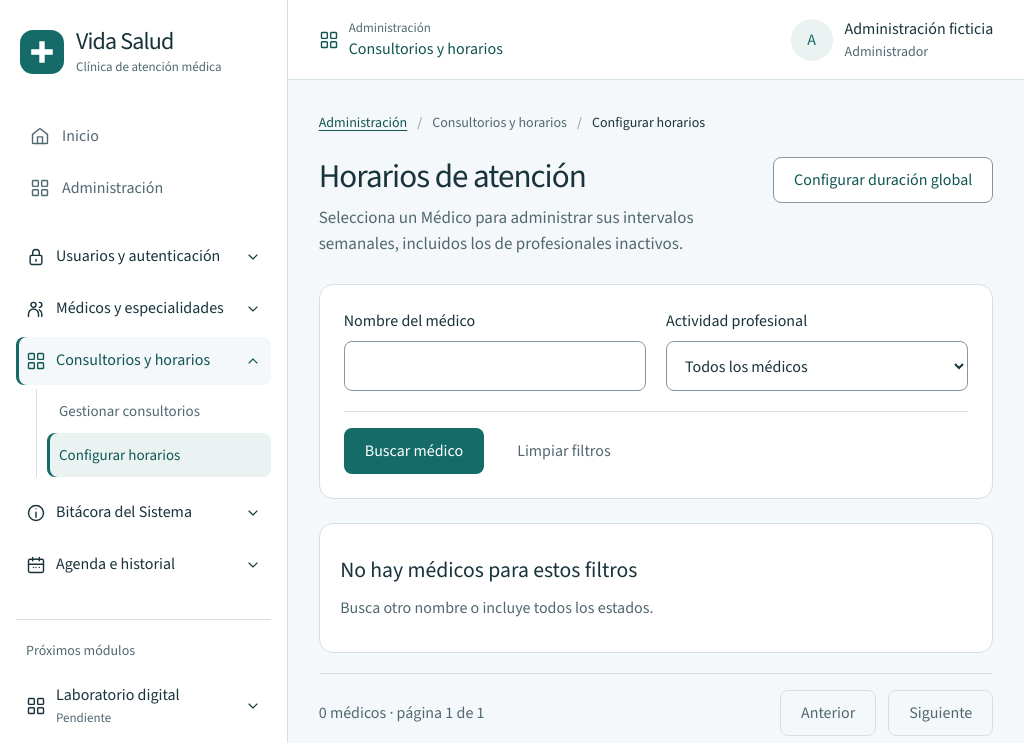
Test: acceso desde horarios muestra duración global real y zona sin pedir Médico
Click the link "Configurar duración global".
click(883, 180)  # box x1=773 y1=157 x2=993 y2=203
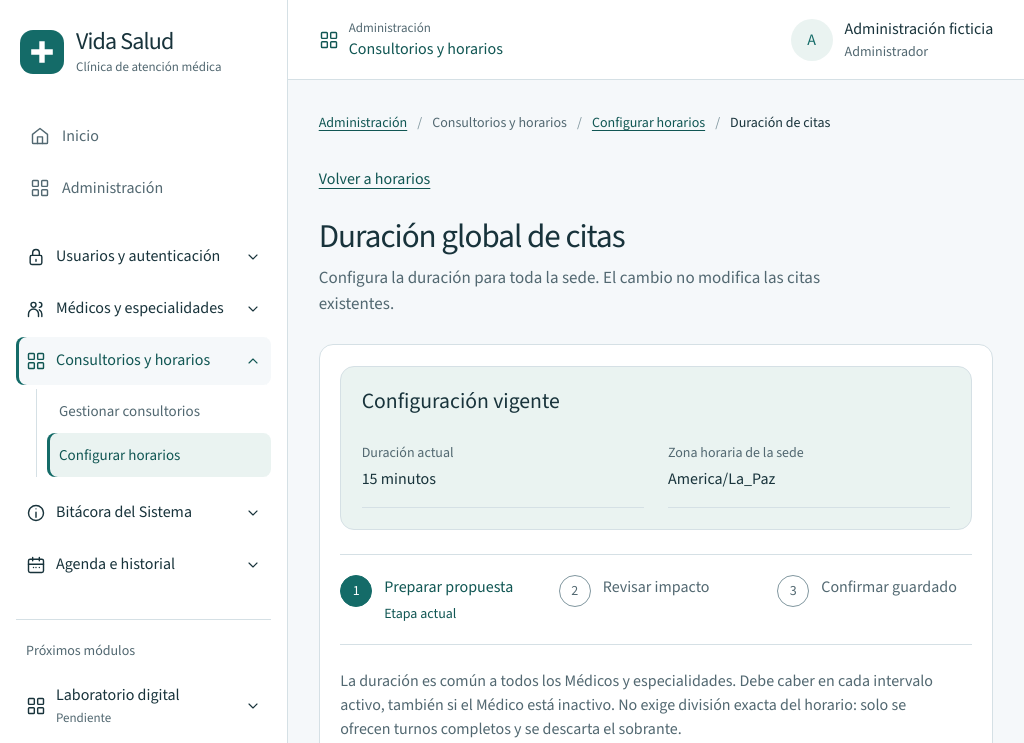
Now the text "15 minutos" is shown, box x1=362 y1=468 x2=436 y2=489
Now the text "America/La_Paz" is shown, box x1=668 y1=468 x2=775 y2=489
Now the text "común a todos los Médicos y especialidades" is shown, box x1=340 y1=670 x2=933 y2=739
